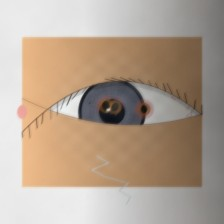foreign_body_visible: (82, 86, 130, 125)
